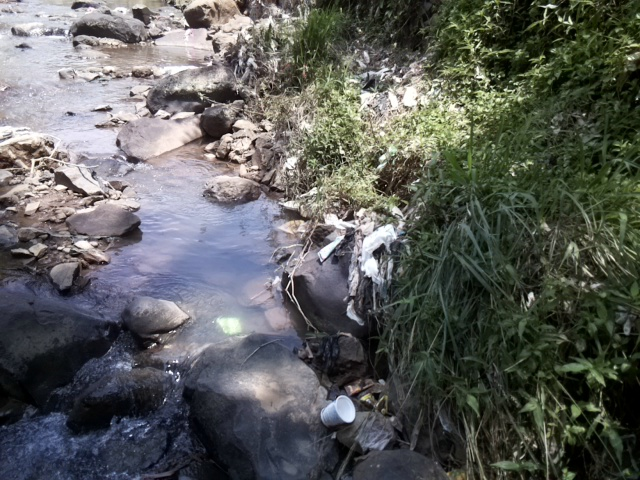Sampah_Styrofoam: (318, 392, 358, 429)
